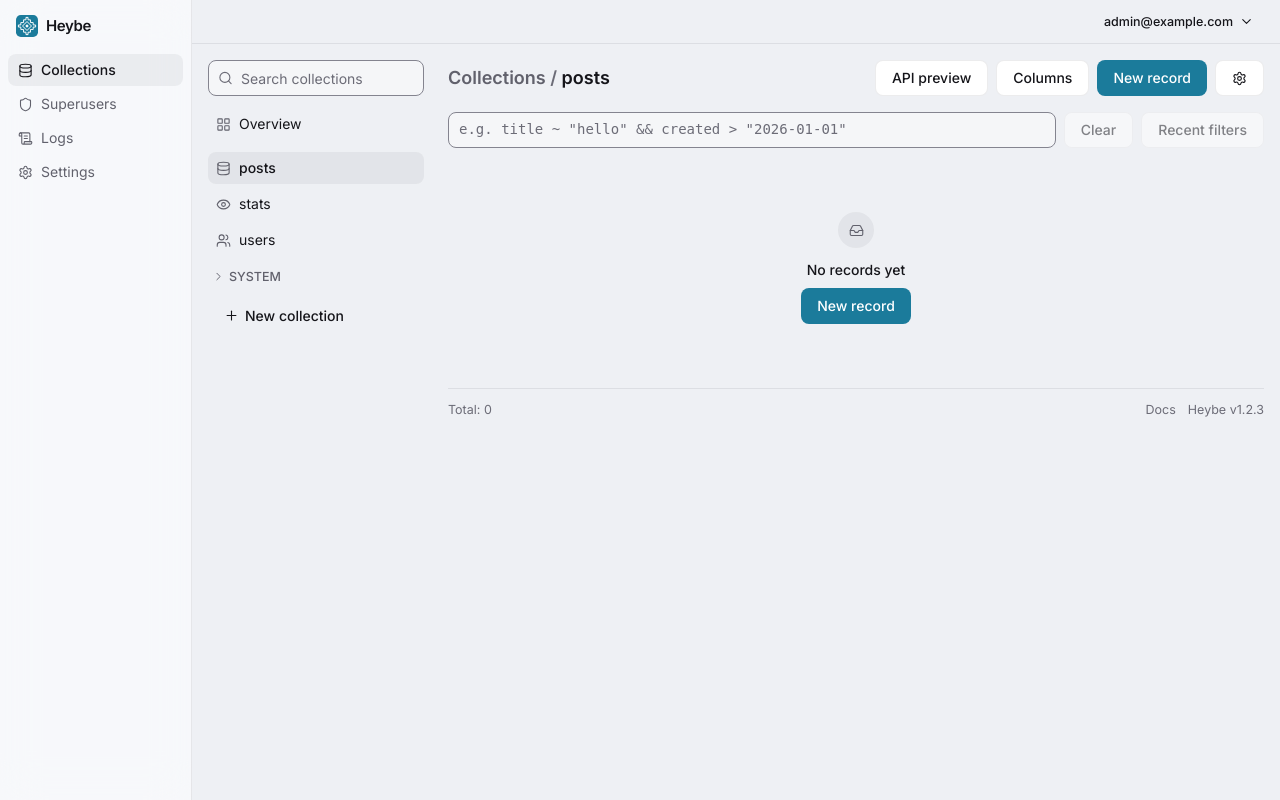
Test: search with no match shows No collections match and clears with the button
Type "zzz" into the field with placeholder "Search collections" at (316, 78), box [208, 60, 424, 96]
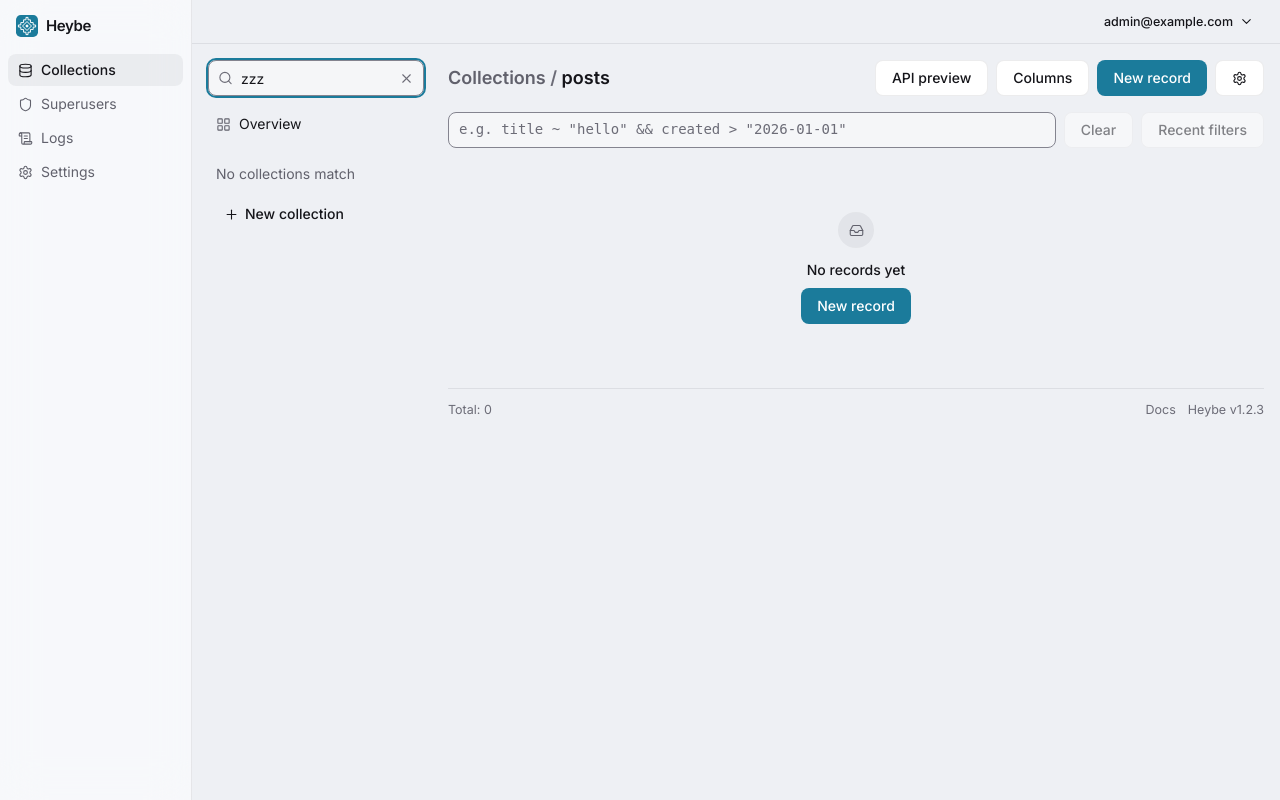
Check: the text "No collections match" is shown, box [216, 165, 355, 182]
Click the button named "Clear search" at (406, 78), box [394, 66, 418, 90]
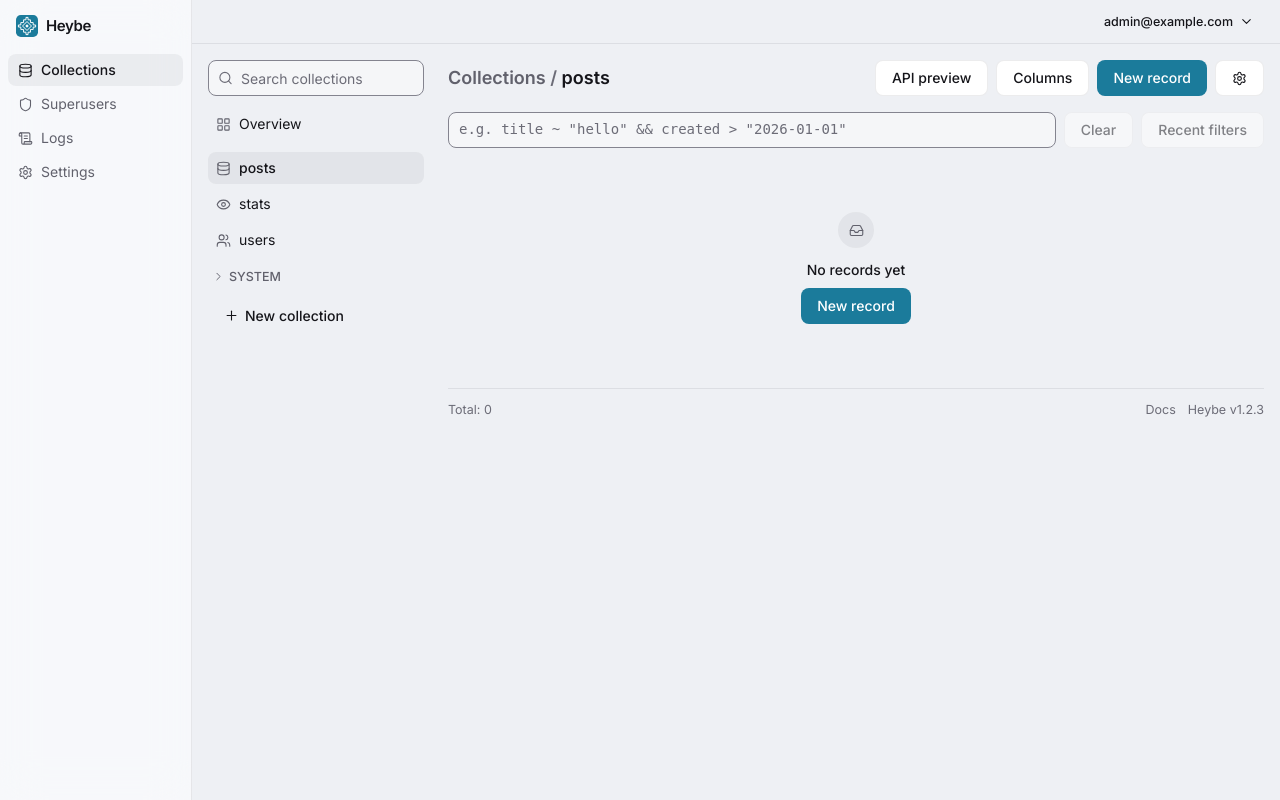
Check: the text "No collections match" is gone
